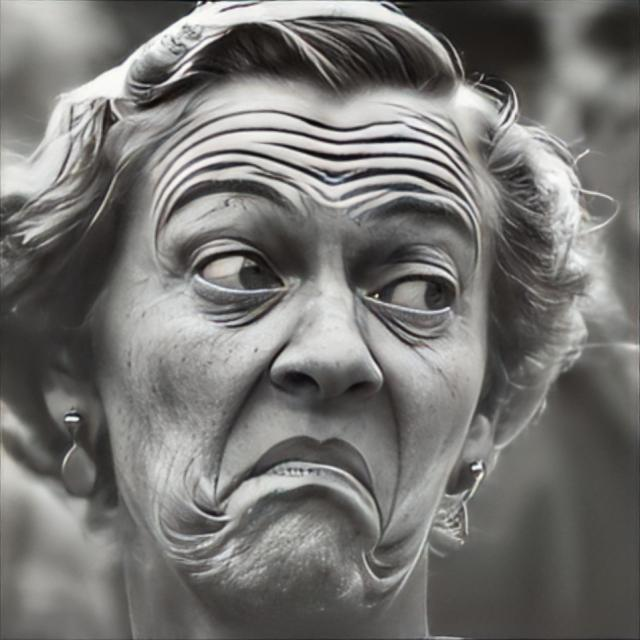disgust: (91, 69, 496, 635)
